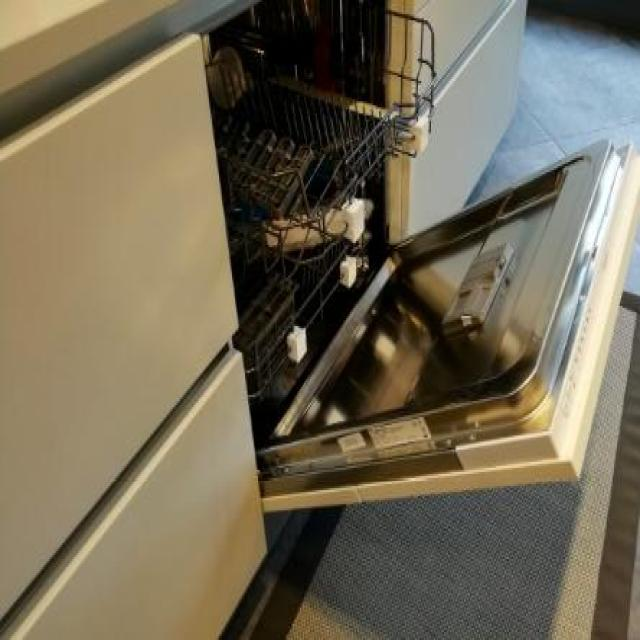dishwasher: (197, 0, 638, 496)
